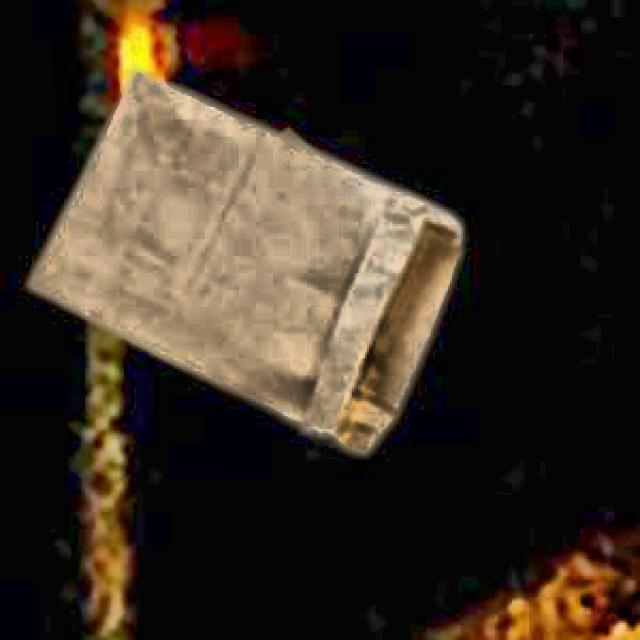Paper-bag: (18, 55, 477, 471)
